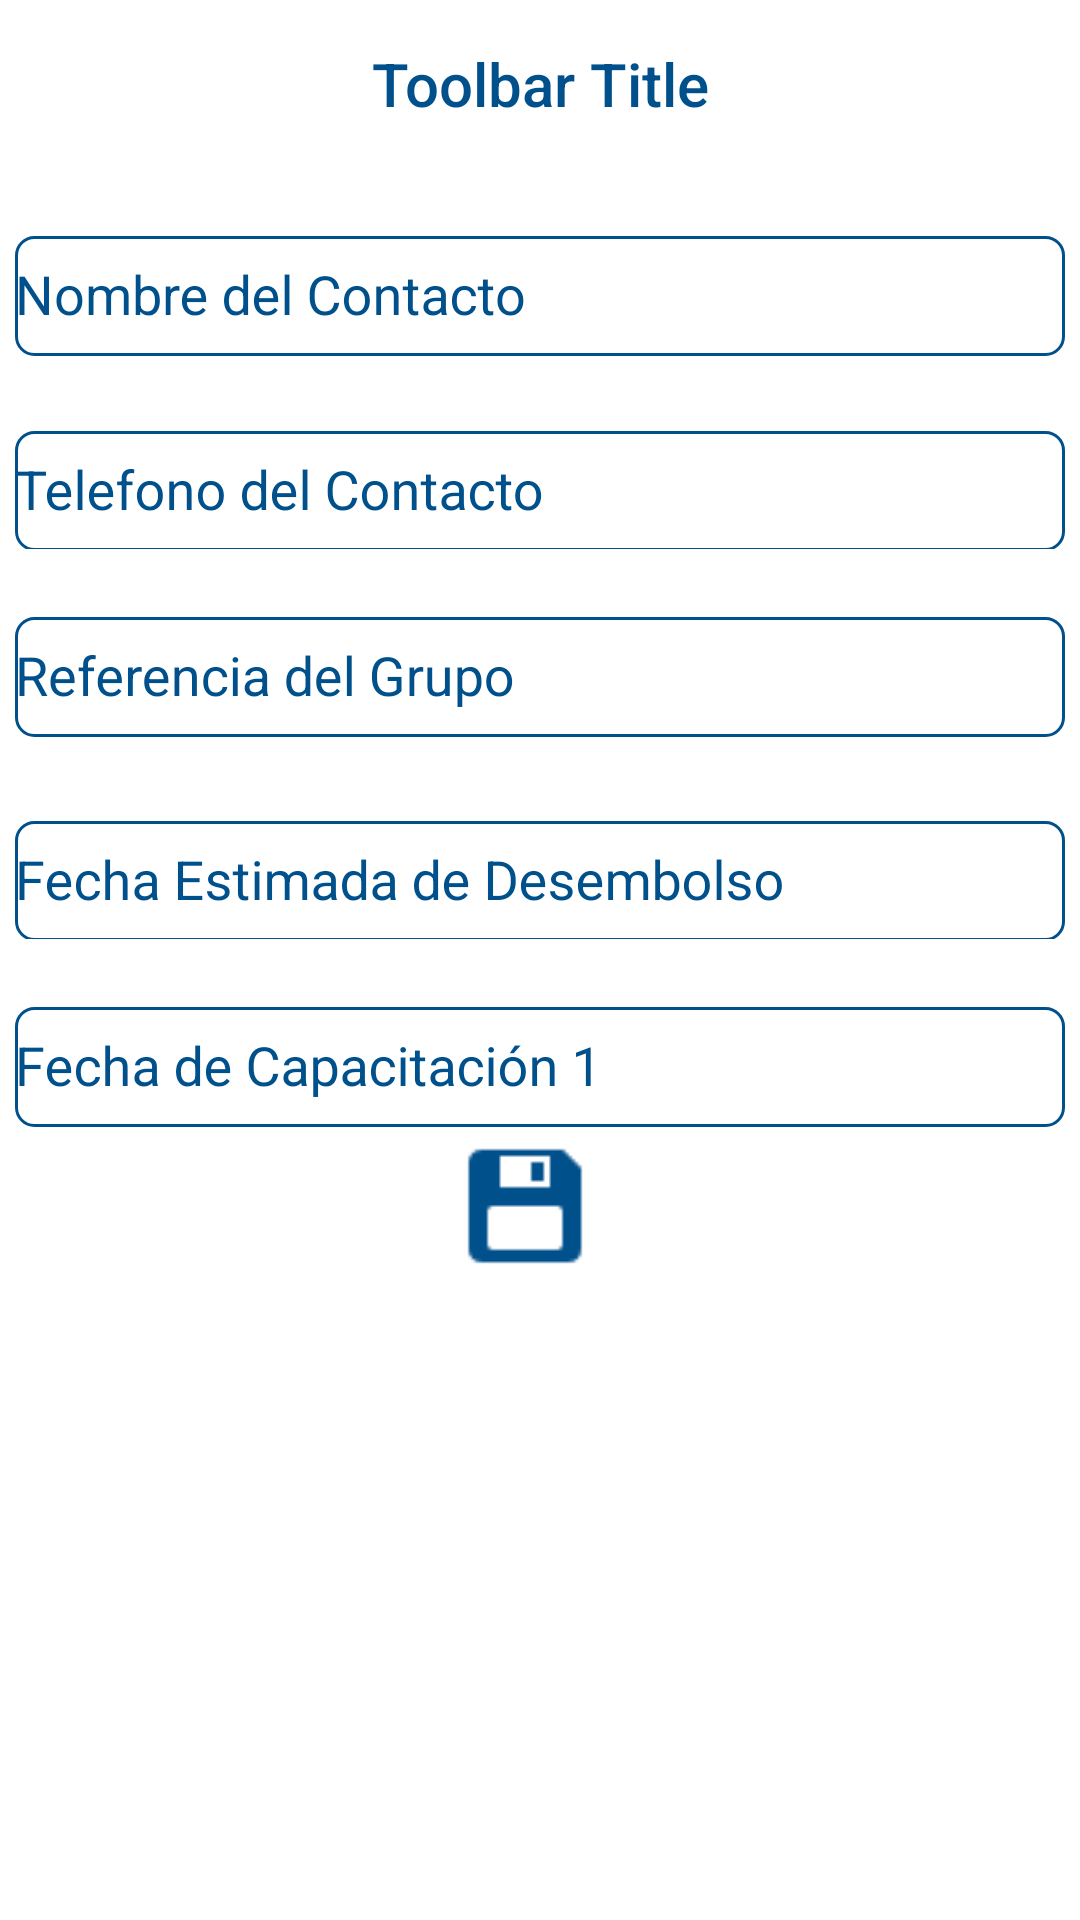

Named icons in this screenshot (1080x1920) and their centers, point (x, y):
iconsave: point (525, 1206)
